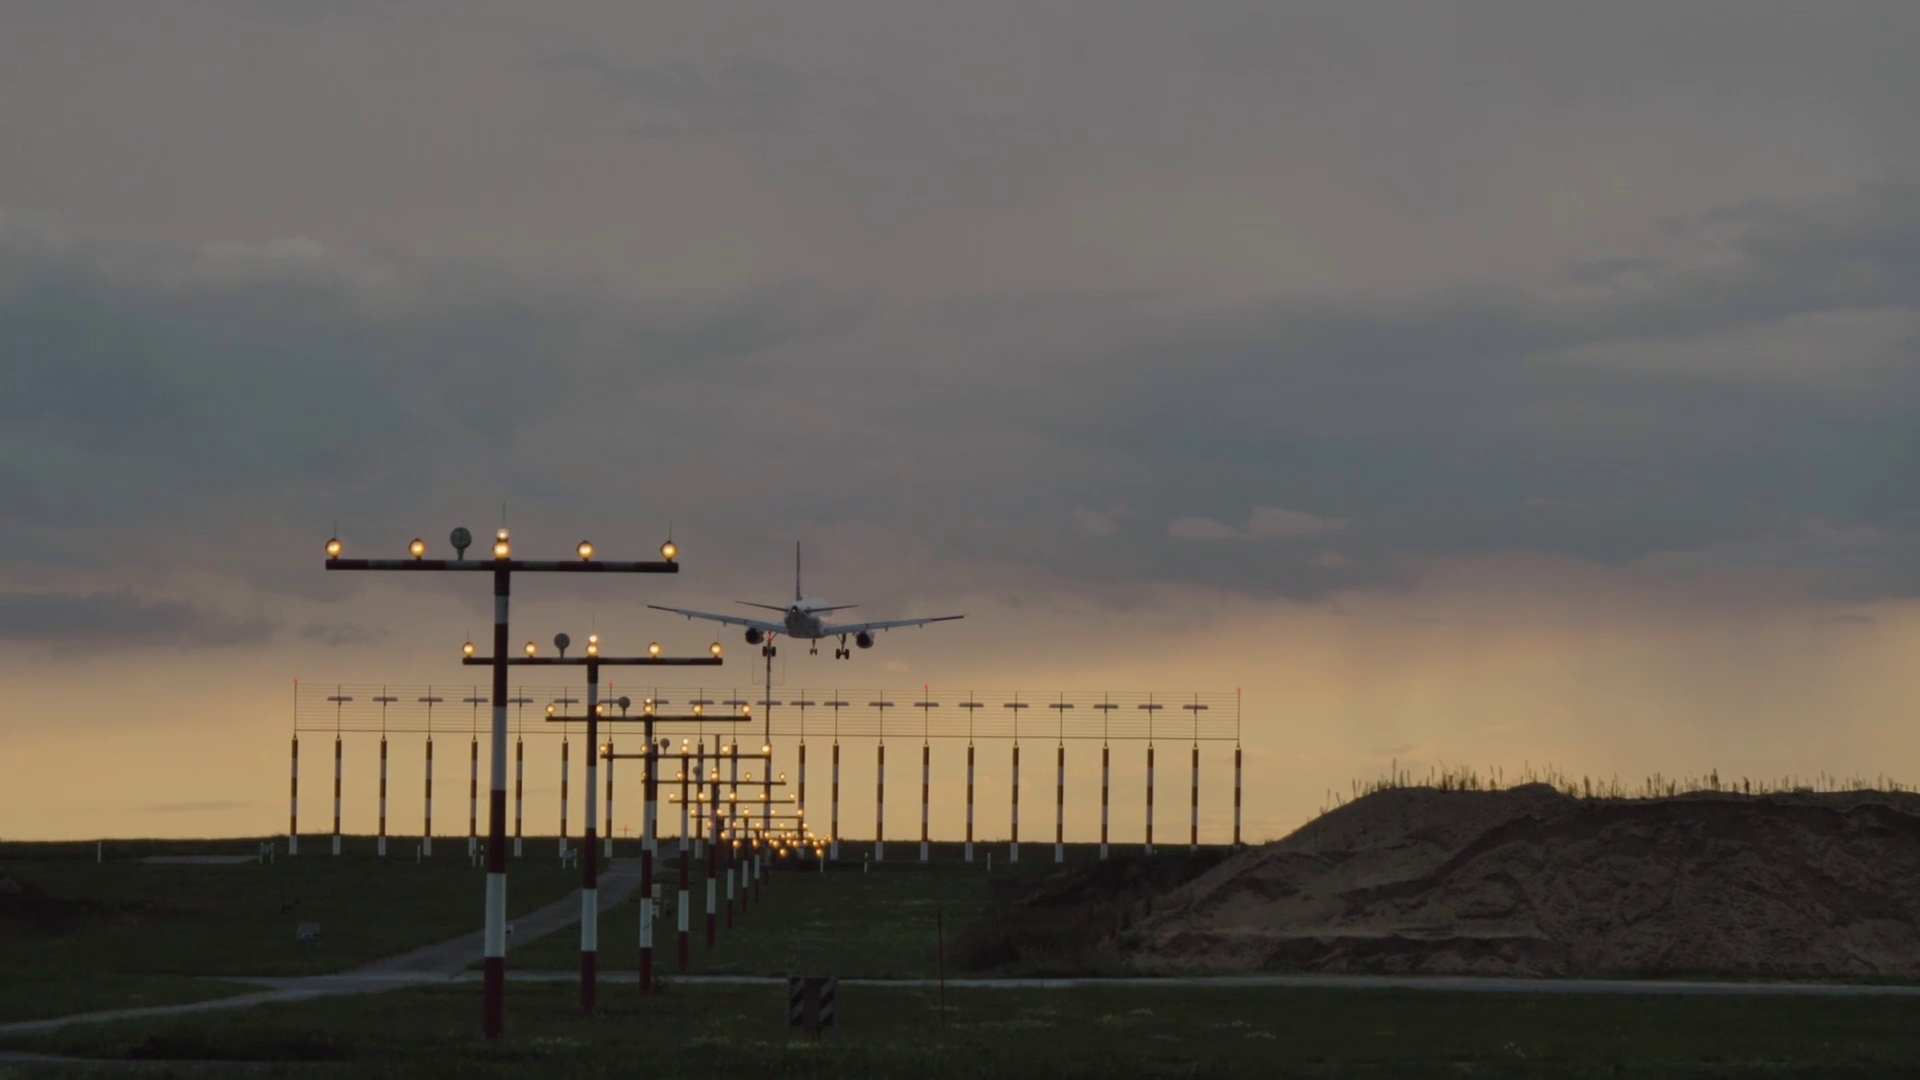plane: (647, 539, 964, 659)
